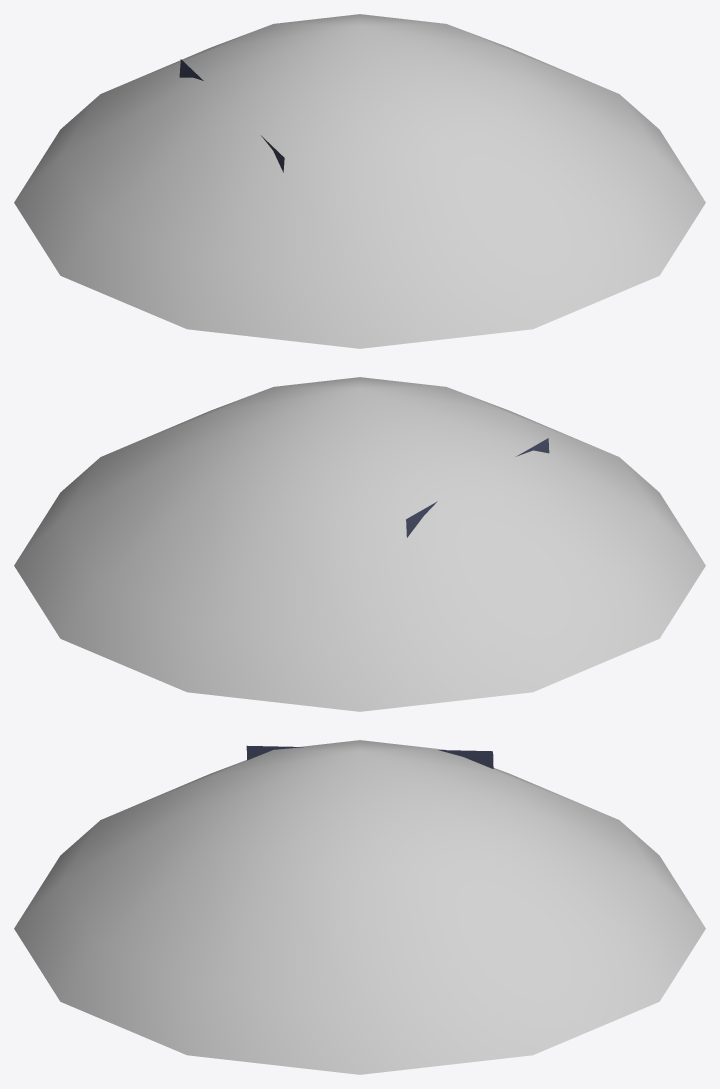
File: sky_timberland.obj
3 views of the same model, one above another, from view 1: azimuth 30°, elevation 25°; view 2: azimuth 150°, elevation 25°; view 3: azimuth 270°, elevation 25° (orthographic).
Parts seen in each view (by area): view 1: _00_sky; view 2: _00_sky, _14_threshold; view 3: _00_sky, _14_threshold.
Boxes of the visible parts, bbox=[...] form: _00_sky: bbox=[14, 14, 705, 348]; _00_sky: bbox=[14, 377, 705, 711]; _14_threshold: bbox=[406, 438, 549, 537]; _00_sky: bbox=[14, 740, 705, 1074]; _14_threshold: bbox=[246, 745, 493, 768].
Bounding box in the file's own units: 1.11e+07 × 3143835 × 1.11e+07.
